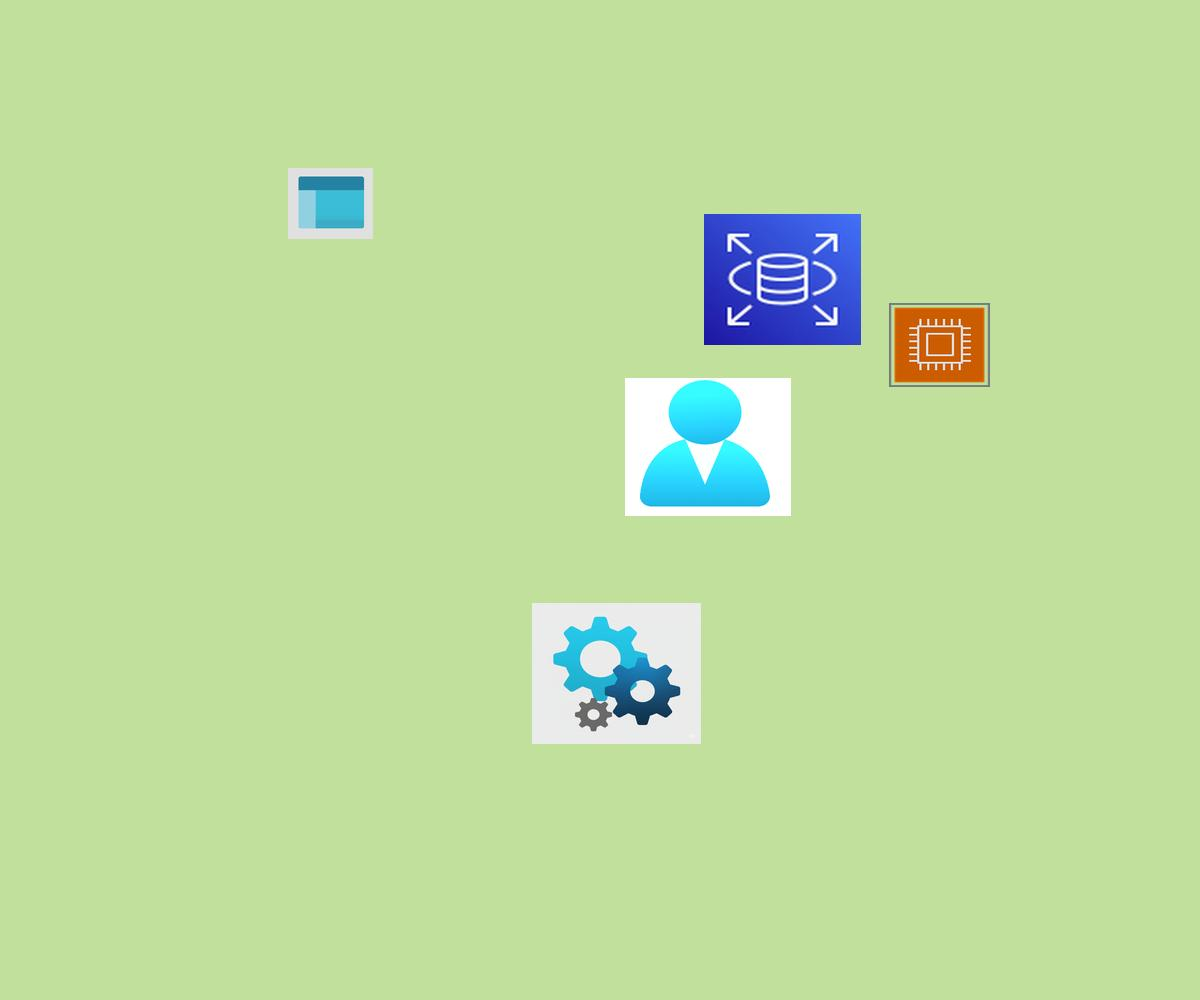AWS-Category_Compute: (889, 303, 990, 387)
AWS-RDS: (704, 214, 861, 345)
Azure_api: (532, 603, 701, 744)
Azure_management-portal: (288, 168, 373, 239)
Azure_users: (625, 378, 791, 516)
